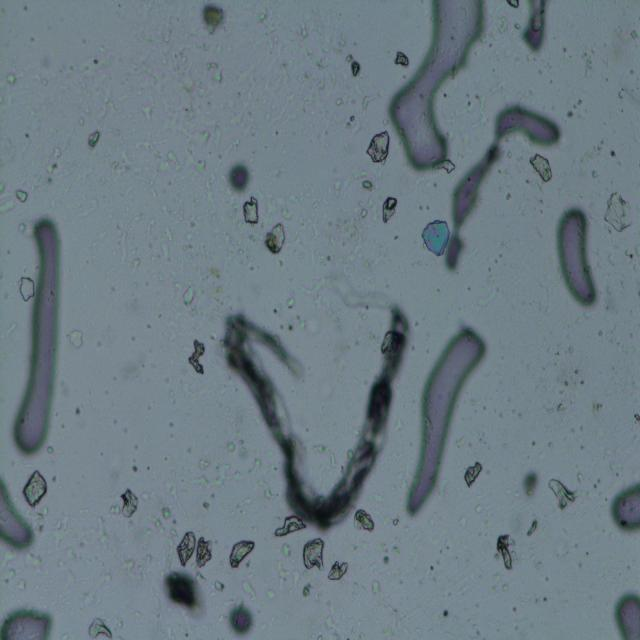Air bubble: (442, 100, 562, 277), (388, 0, 485, 174), (405, 323, 489, 520), (12, 211, 64, 456), (554, 204, 600, 310), (0, 474, 38, 556), (0, 602, 54, 640), (608, 472, 640, 534), (614, 588, 640, 639), (523, 0, 545, 51)
Background material: (123, 38, 255, 196), (258, 19, 364, 136), (296, 193, 386, 308), (46, 500, 136, 606), (539, 354, 601, 428), (145, 468, 179, 548), (162, 572, 206, 620), (571, 141, 618, 184), (172, 530, 218, 573), (598, 185, 634, 235), (191, 455, 231, 492), (544, 476, 580, 514), (196, 1, 229, 38), (299, 534, 327, 577), (493, 528, 519, 574), (422, 220, 452, 259), (526, 150, 554, 185), (262, 219, 286, 258), (227, 538, 256, 570), (227, 602, 255, 634), (24, 472, 48, 509), (272, 516, 308, 540), (227, 160, 253, 193), (187, 337, 207, 378), (240, 193, 262, 230), (117, 486, 141, 519), (367, 132, 391, 164), (44, 144, 60, 191), (462, 458, 485, 490), (86, 615, 114, 639), (354, 507, 376, 537), (63, 326, 85, 355), (16, 276, 38, 305), (561, 93, 588, 116), (521, 470, 541, 500), (326, 557, 349, 583), (381, 194, 399, 224), (1, 66, 23, 90), (297, 573, 314, 603), (344, 54, 364, 77), (182, 284, 198, 310), (393, 47, 411, 70), (85, 129, 102, 152), (525, 514, 539, 540), (358, 176, 378, 193), (13, 183, 28, 204), (362, 574, 380, 591), (436, 606, 453, 620), (505, 0, 521, 11), (131, 459, 139, 477), (74, 404, 84, 418), (268, 491, 276, 500)
Cellulose filter fibre: (214, 291, 408, 533)
